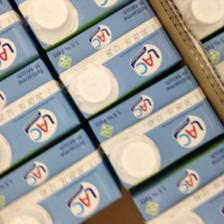Milch: (69, 68, 223, 188), (45, 4, 177, 106), (0, 131, 119, 223), (0, 57, 84, 167), (127, 136, 223, 220)
